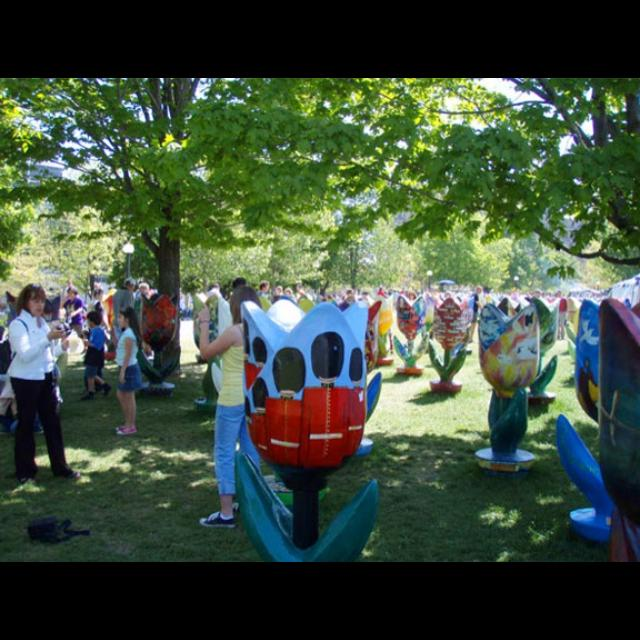head: (22, 283, 48, 319), (235, 290, 261, 322), (118, 307, 136, 329), (86, 312, 104, 330), (125, 278, 137, 292), (93, 290, 105, 302), (68, 290, 78, 300), (475, 287, 483, 295), (556, 292, 562, 300)
person: (192, 282, 278, 532), (5, 282, 83, 490), (110, 303, 146, 439), (77, 309, 116, 405), (111, 277, 147, 375), (86, 282, 118, 380), (56, 285, 95, 365), (466, 284, 488, 346), (553, 289, 569, 341)
